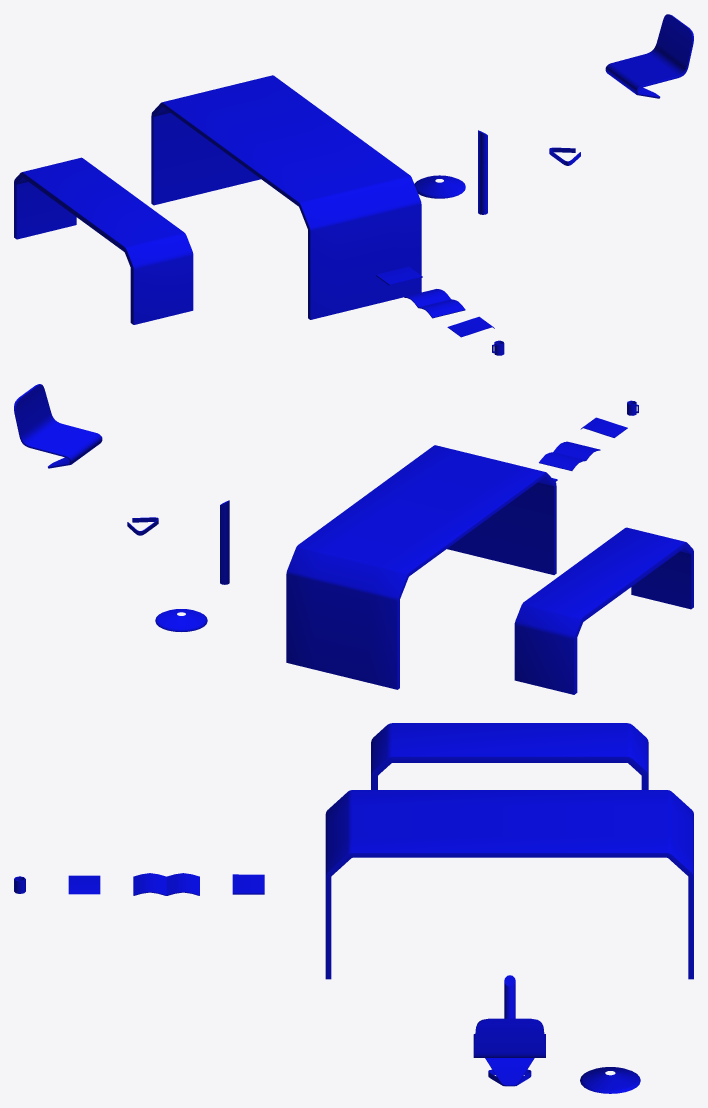
File: SeatingAssets_Low_EXP.FBX
The picture shows the model from 3 angles, top to bottom: view 1: azimuth 30°, elevation 25°; view 2: azimuth 150°, elevation 25°; view 3: azimuth 270°, elevation 25°; orthographic projection. The views are drawn at different scales.
Parts seen in each view (by area): view 1: SeatingAssets_Low_EXP; view 2: SeatingAssets_Low_EXP; view 3: SeatingAssets_Low_EXP.
Boxes of the visible parts, box(x1,y1,x2,y2) form: SeatingAssets_Low_EXP: box(14, 14, 693, 355); SeatingAssets_Low_EXP: box(14, 384, 693, 694); SeatingAssets_Low_EXP: box(14, 723, 693, 1093).
Size of the model in its own units: 153 by 36.16 by 129.
